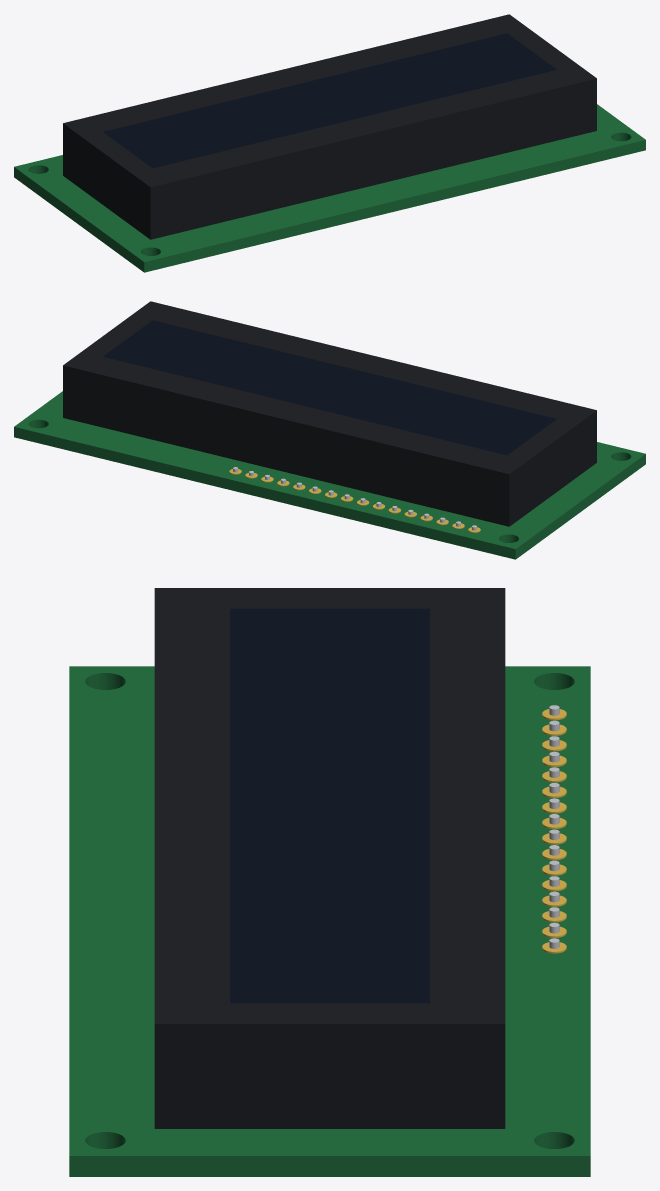
3 views of the same model, one above another, from view 1: azimuth 30°, elevation 25°; view 2: azimuth 150°, elevation 25°; view 3: azimuth 270°, elevation 25° (orthographic). The views are drawn at different scales.
Visible parts, largest first — view 1: object 2, object 1, glass; view 2: object 2, object 1, glass, object 4, object 5; view 3: object 2, object 1, glass, object 4, object 5.
Part boxes in pixels (bbox=[...]): object 2: bbox=[63, 14, 596, 239]; object 1: bbox=[14, 104, 645, 272]; glass: bbox=[103, 33, 556, 168]; object 2: bbox=[63, 301, 596, 526]; object 1: bbox=[14, 391, 645, 559]; glass: bbox=[103, 320, 556, 455]; object 4: bbox=[229, 469, 480, 532]; object 5: bbox=[233, 467, 476, 530]; object 2: bbox=[154, 588, 505, 1128]; object 1: bbox=[69, 666, 590, 1176]; glass: bbox=[230, 608, 429, 1003]; object 4: bbox=[542, 709, 566, 953]; object 5: bbox=[549, 705, 559, 948].
Size of the model in its own units: 0.08 by 0.00963 by 0.036.
